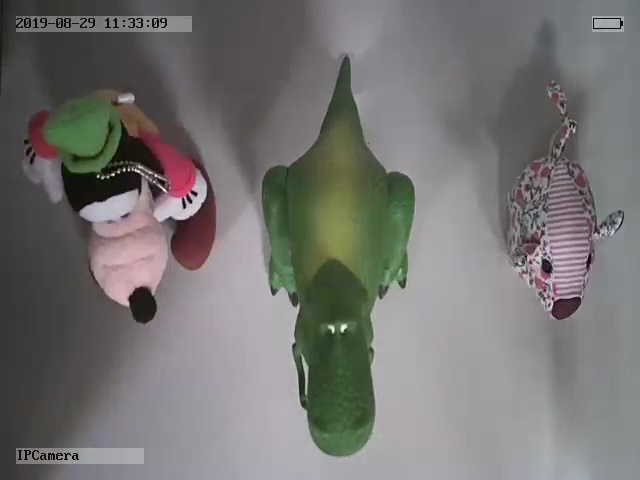goofy: (20, 87, 217, 323)
pig: (503, 78, 626, 317)
rex: (257, 54, 418, 460)
